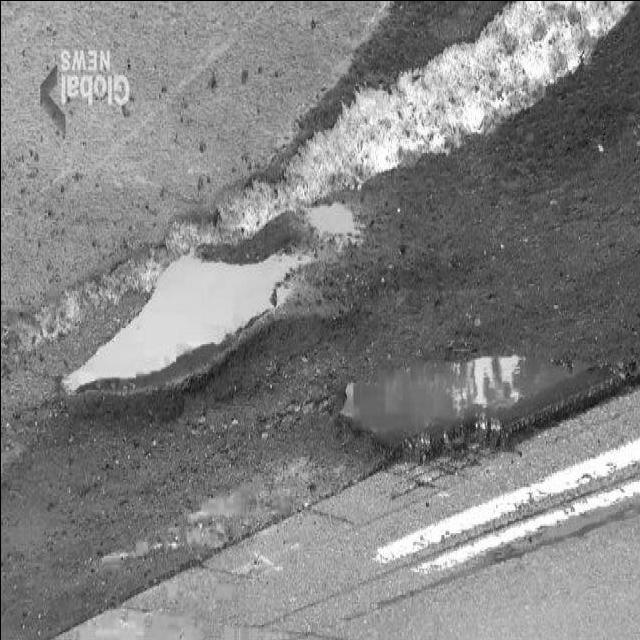lubang: (58, 157, 362, 430), (319, 355, 629, 483)
